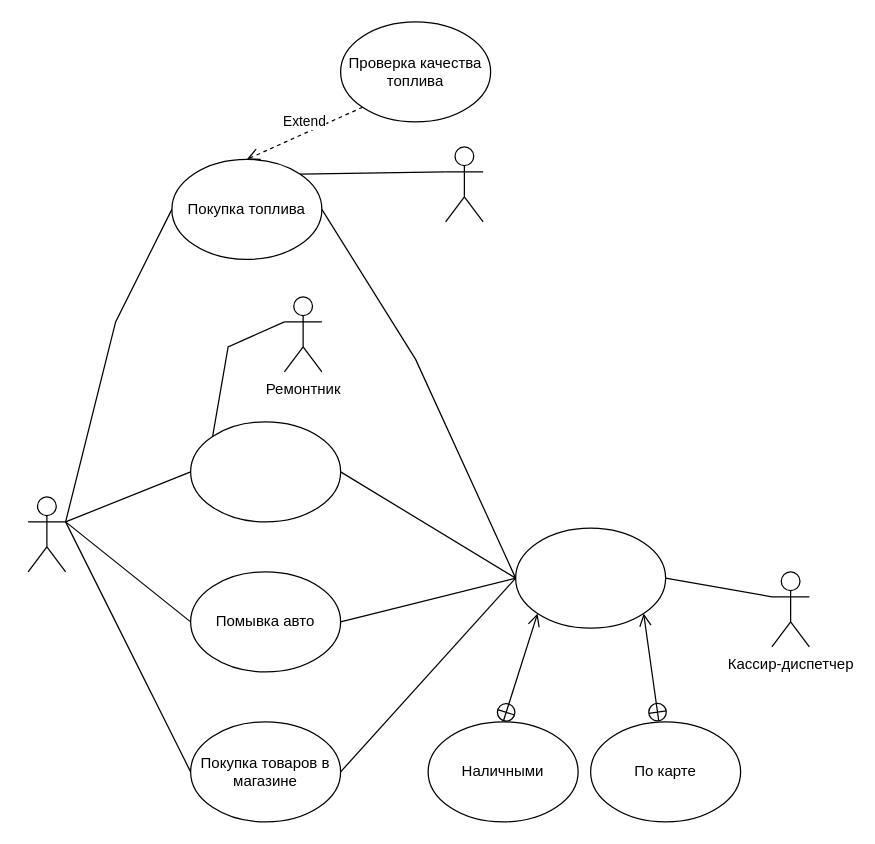
Image size: 875x844. Some labels were removed from this diagram. The centre of each missing label's shape, as x and y in pixels:
"Заправщик" belongs at [463,184].
"Клиент" belongs at [46,534].
"Оплата услуги" belongs at [590,577].
"Техническое обслуживание и починка" belongs at [265,471].
